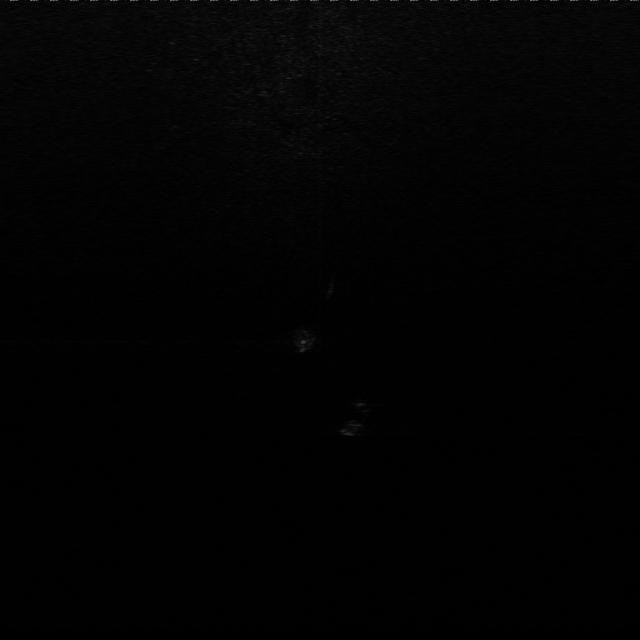circle cage: (284, 324, 324, 358)
tyre: (333, 397, 378, 438)
